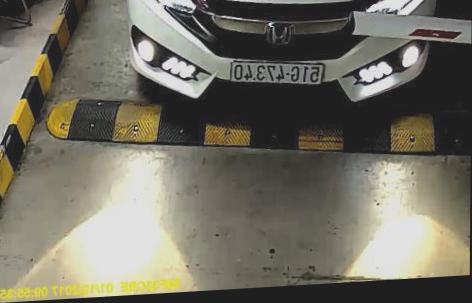License_Plate: (227, 57, 327, 89)
